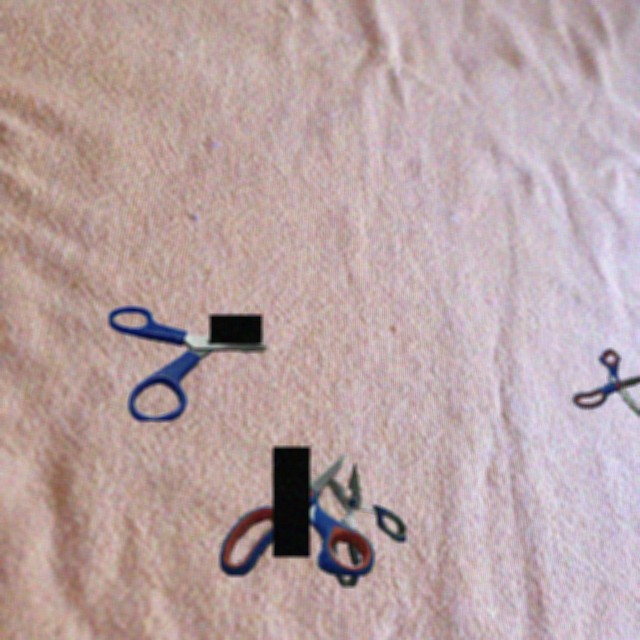scissors: (220, 446, 374, 576), (109, 306, 266, 421), (323, 463, 406, 587), (572, 349, 640, 417)
